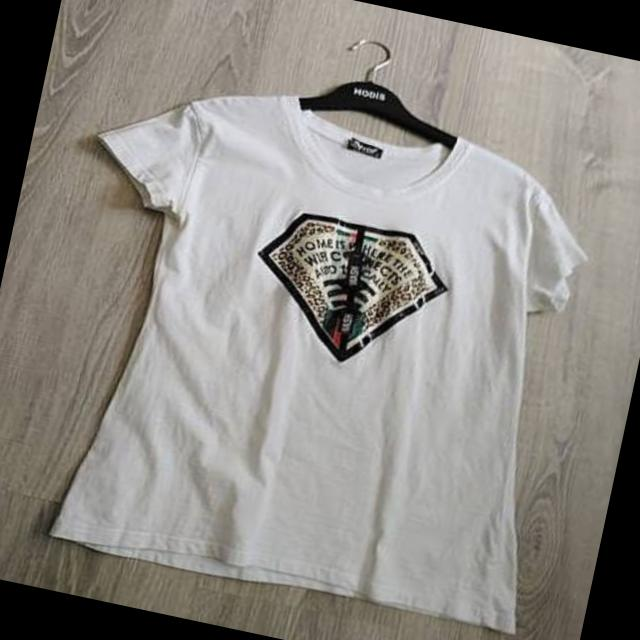T_SHIRT: (0, 41, 637, 640)
